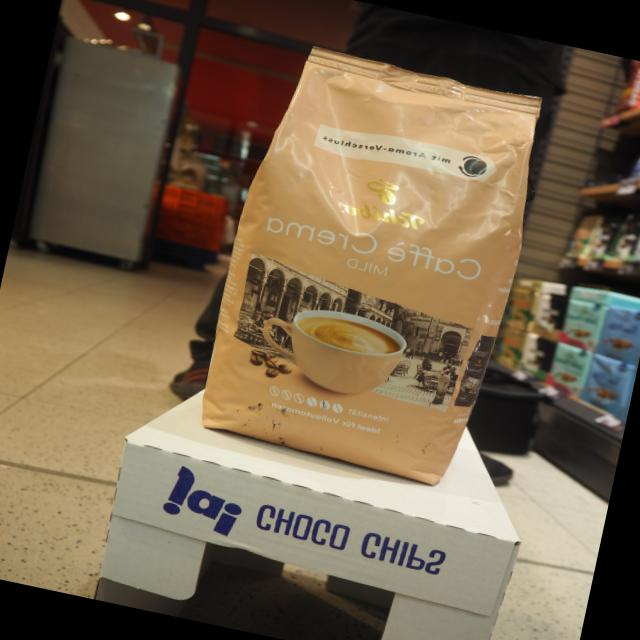CC Mild: (186, 33, 562, 499)
